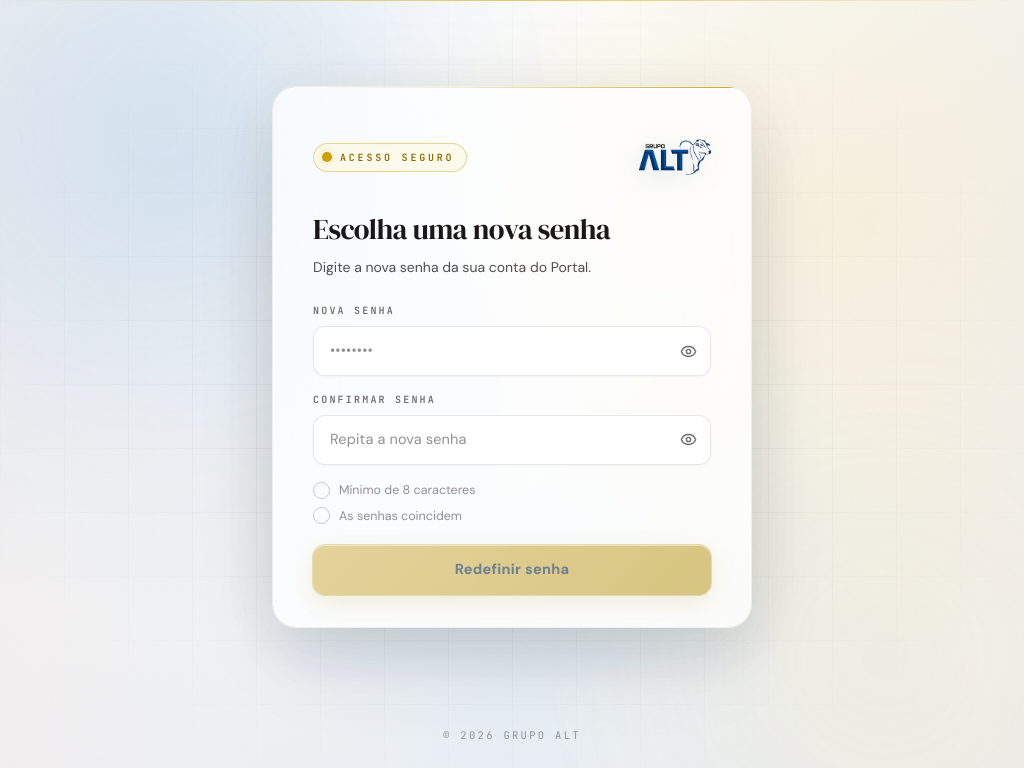
/redefinir-senha › fluxo feliz: POST com token+senha e tela de sucesso
Type "senha-valida-123" into the password field labelled "Nova senha" at (490, 351), box [314,327,666,375]
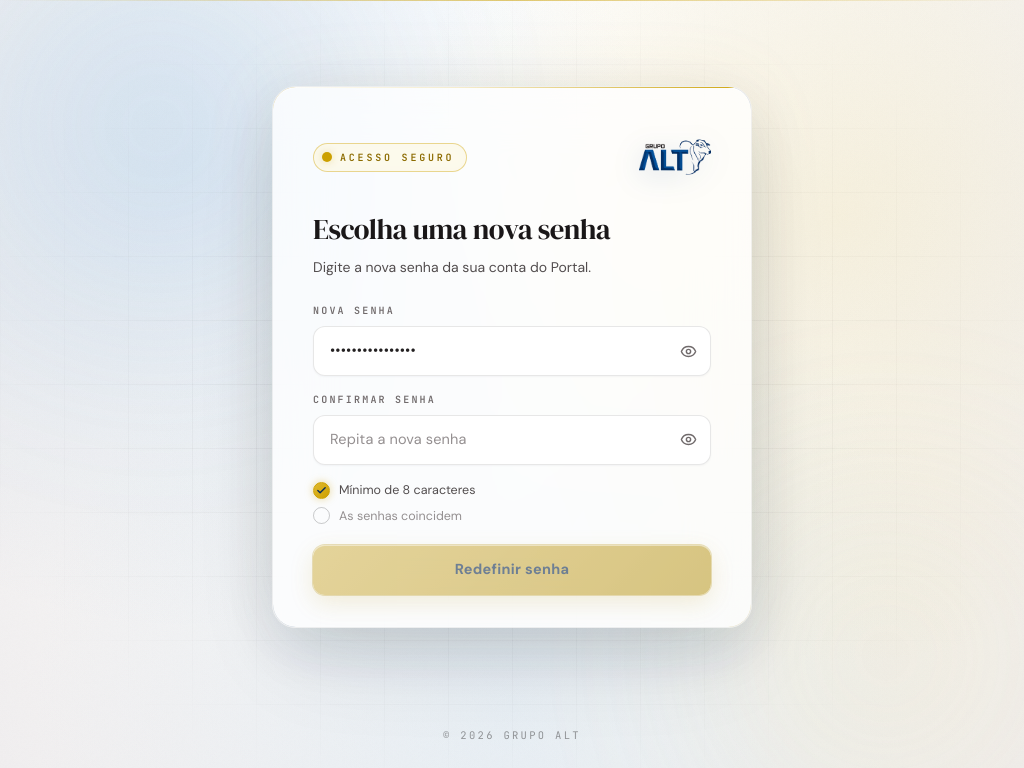
Type "senha-valida-123" into the password field labelled "Confirmar senha" at (490, 440), box [314,416,666,464]
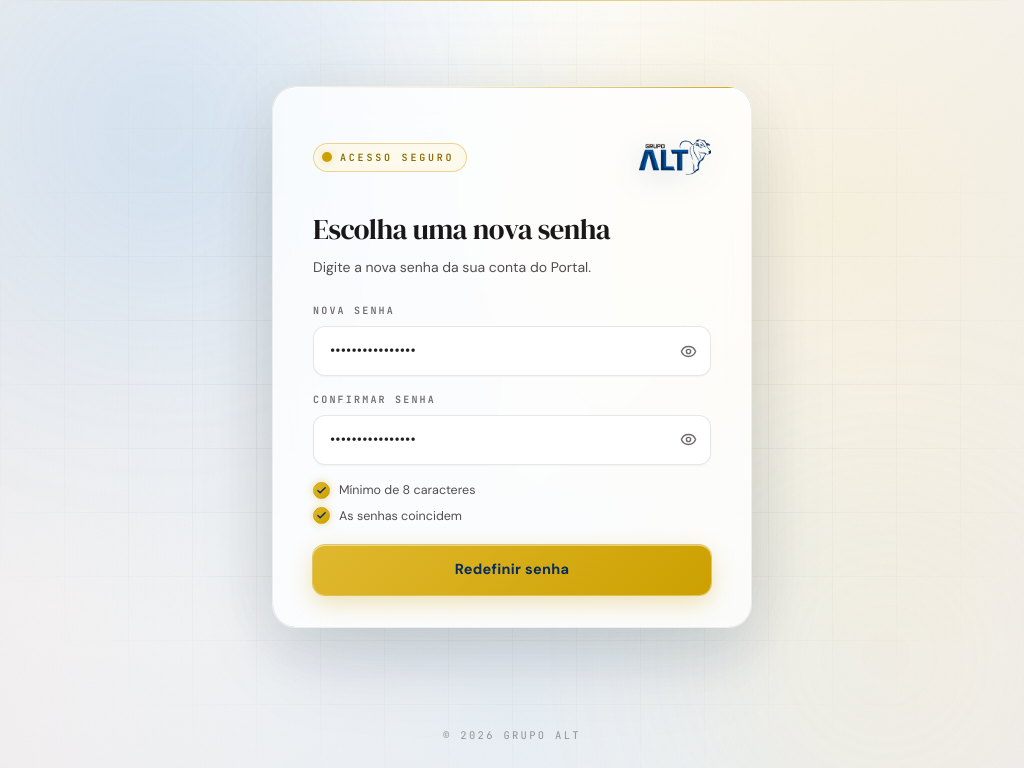
Click the button "Redefinir senha" at (512, 570), box [313,545,711,595]
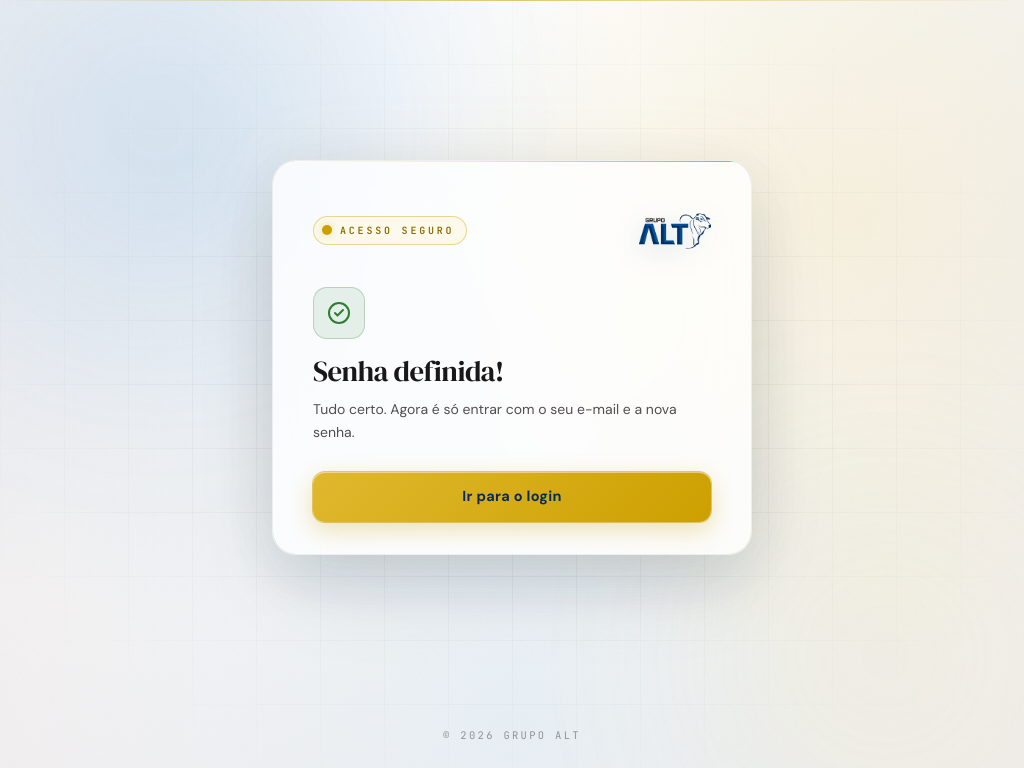
expect the heading "Senha definida!" is shown: met, box [313,351,504,391]
